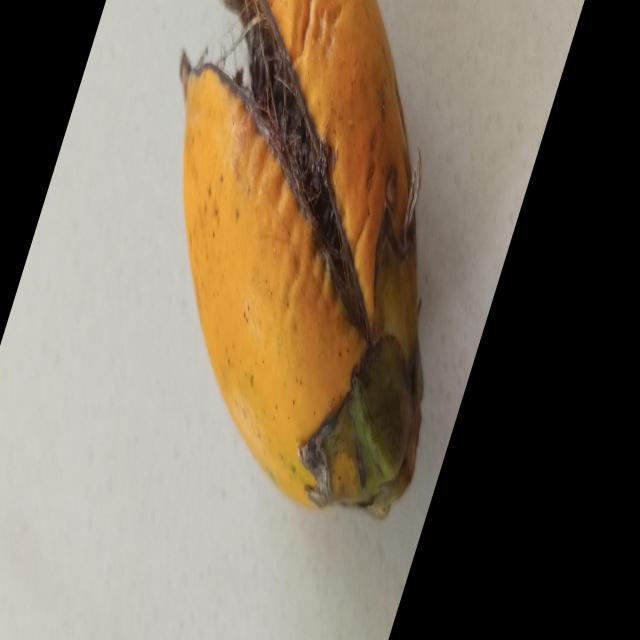damaged: (179, 0, 422, 520)
